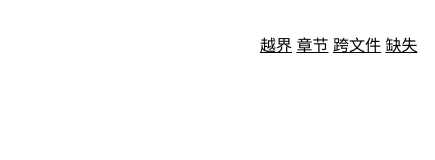
非法/缺失链接、缺失章节及跨文件章节给出明确提示
Click the link "越界".
click(276, 46)  # box [260,37,292,54]
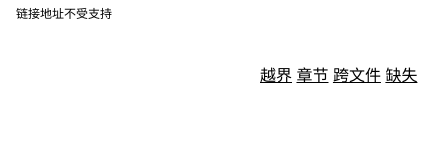
Check: the text "链接地址不受支持" is shown, box [16,7,112,21]
Click the link "章节".
click(312, 75)  # box [296,67,328,84]
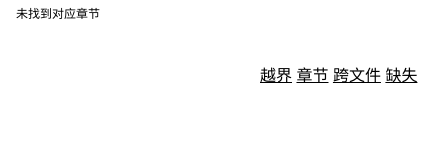
Check: the text "未找到对应章节" is shown, box [16,7,100,21]
Click the link "跨文件".
click(357, 75)  # box [333,67,381,84]
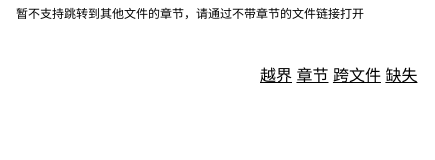
Check: the text "暂不支持跳转到其他文件的章节" is shown, box [16,7,364,21]
Click the link "缺失".
click(401, 75)  # box [385,67,417,84]
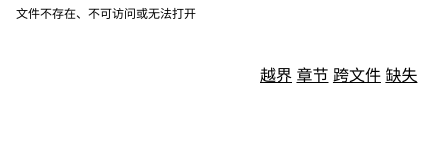
Check: the text "文件不存在" is shown, box [16,7,196,21]
